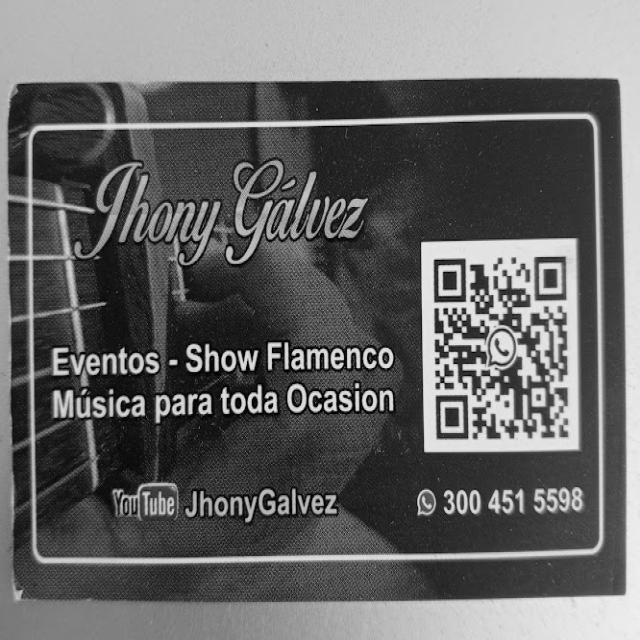QR-codes: (435, 254, 575, 439)
